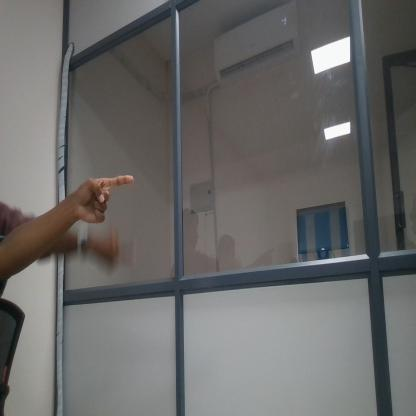Left: (83, 168, 134, 222)
